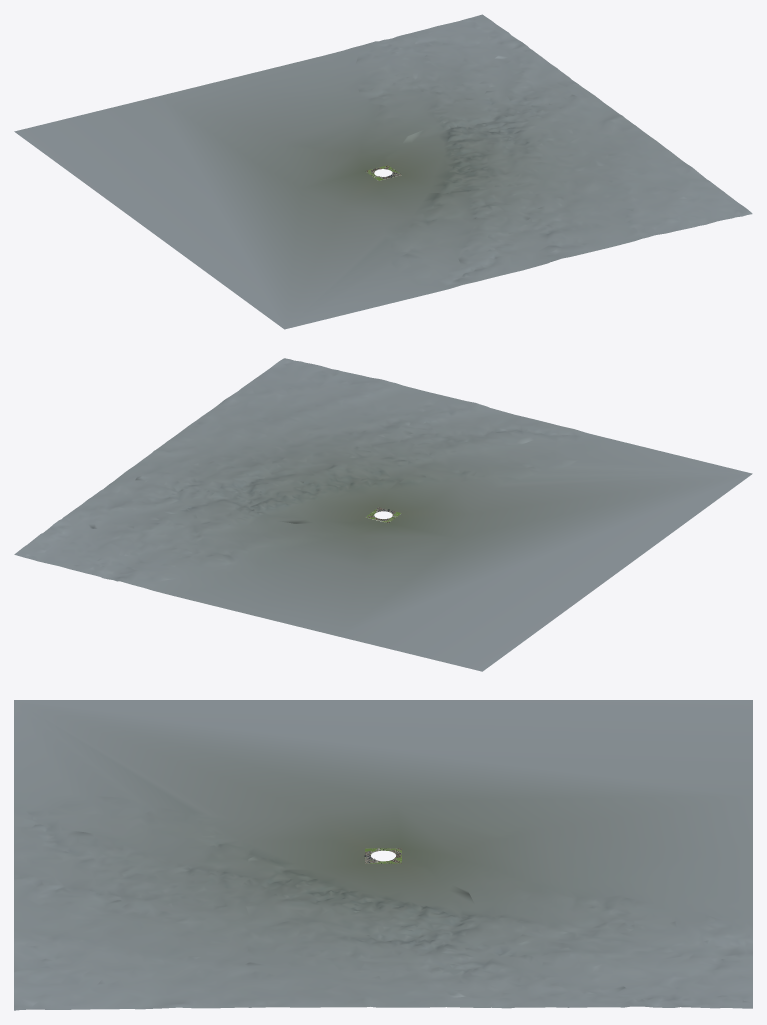
File: adelaide_backdrop_part1.glb
3 views of the same model, one above another, from view 1: azimuth 30°, elevation 25°; view 2: azimuth 150°, elevation 25°; view 3: azimuth 270°, elevation 25° (orthographic). The views are drawn at different scales.
Parts seen in each view (by area): view 1: bg_far_terrain; view 2: bg_far_terrain; view 3: bg_far_terrain.
Part boxes in pixels (bbox=[...]): bg_far_terrain: bbox=[14, 14, 752, 329]; bg_far_terrain: bbox=[14, 358, 752, 671]; bg_far_terrain: bbox=[14, 700, 752, 1010].
Bounding box in the file's own units: 60002 × 704 × 60002.
18 materials, 13 textured.
